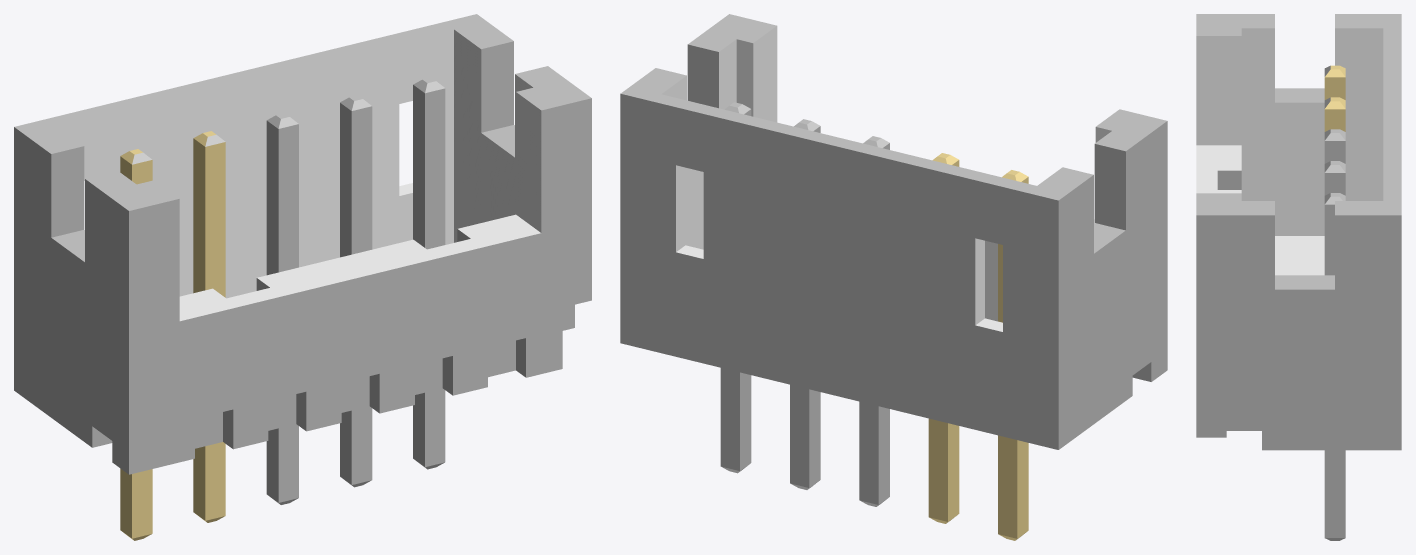
The model's file is DF13-5P-1.25DSA(50).obj.
3 renders of one model, left to right at view 1: azimuth 30°, elevation 25°; view 2: azimuth 150°, elevation 25°; view 3: azimuth 270°, elevation 25°, orthographic. The views are drawn at different scales.
Visible parts, largest first — view 1: DF13-5P-1.25DSA(50); view 2: DF13-5P-1.25DSA(50); view 3: DF13-5P-1.25DSA(50).
Boxes of the visible parts, x1,y1,x2,y2 form: DF13-5P-1.25DSA(50): [14, 14, 591, 540]; DF13-5P-1.25DSA(50): [620, 14, 1167, 540]; DF13-5P-1.25DSA(50): [1196, 14, 1401, 540].
Bounding box in the file's own units: 0.0208 × 0.0174 × 0.00895.
